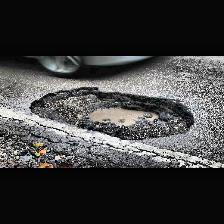pothole: (28, 86, 194, 140)
